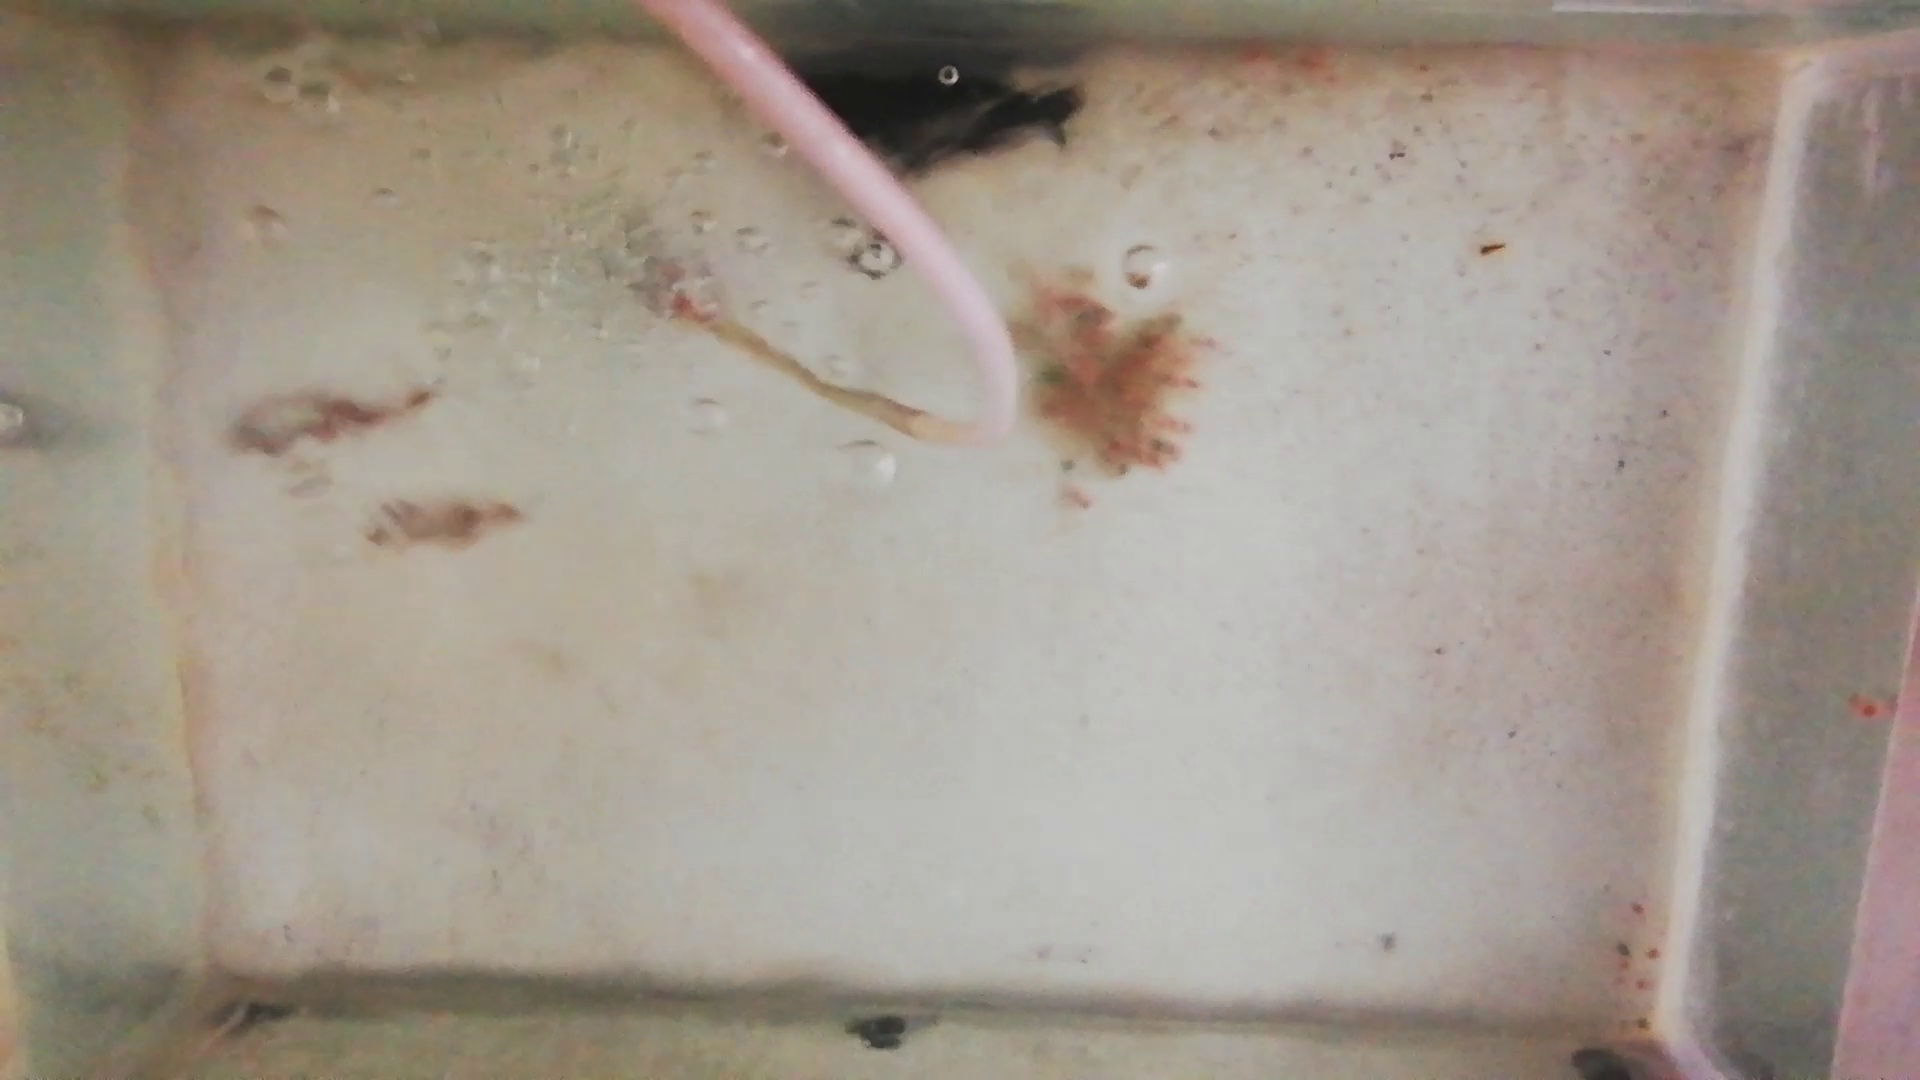fish: (224, 392, 433, 450), (371, 497, 526, 553)
